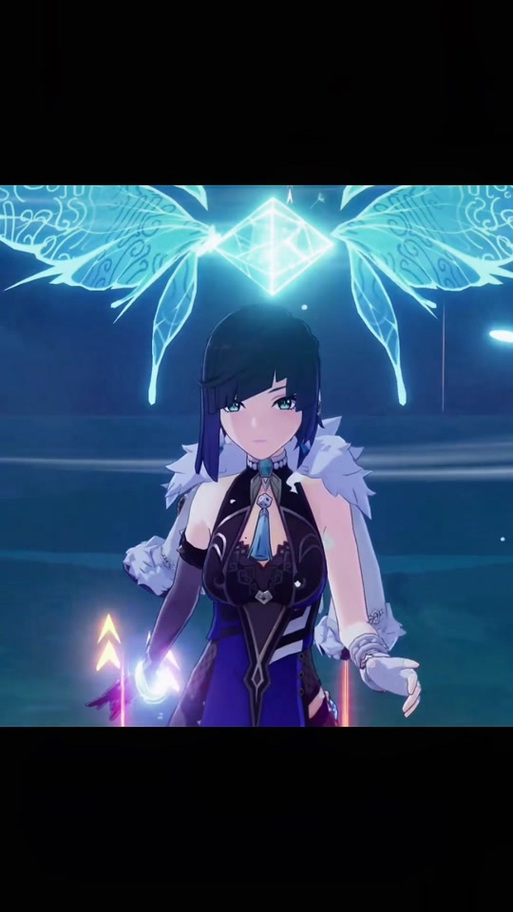夜兰: (86, 306, 425, 728)
